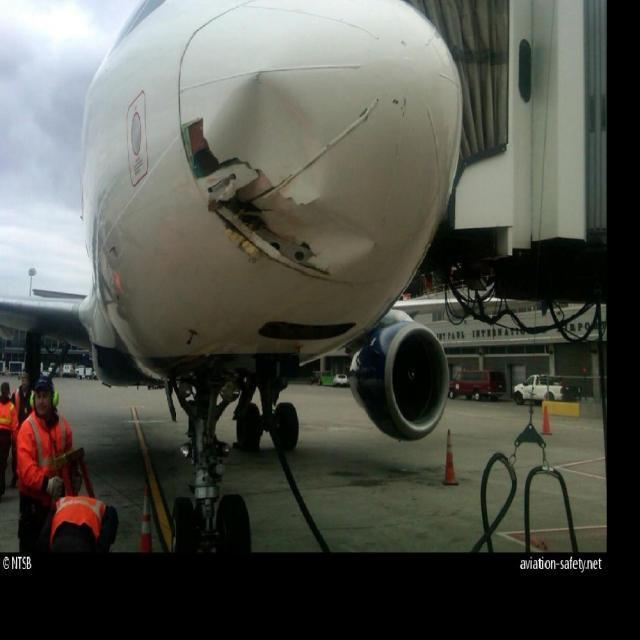dent: (220, 68, 328, 201), (276, 207, 377, 263)
